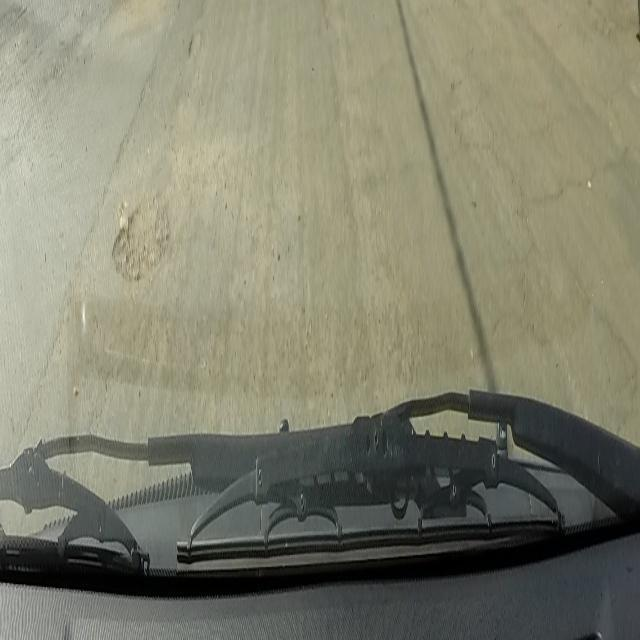pothole: (110, 177, 170, 286)
